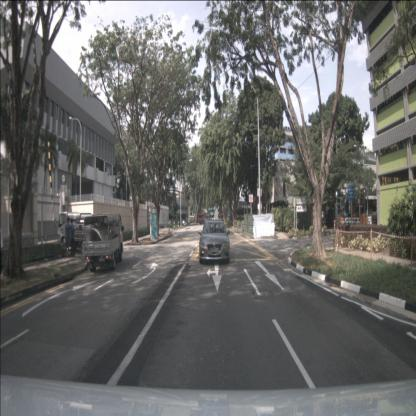barrier: (254, 223, 275, 236)
